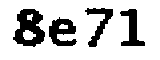1: (117, 8, 148, 52)
7: (83, 4, 114, 53)
8: (10, 4, 47, 49)
e: (49, 15, 81, 51)
